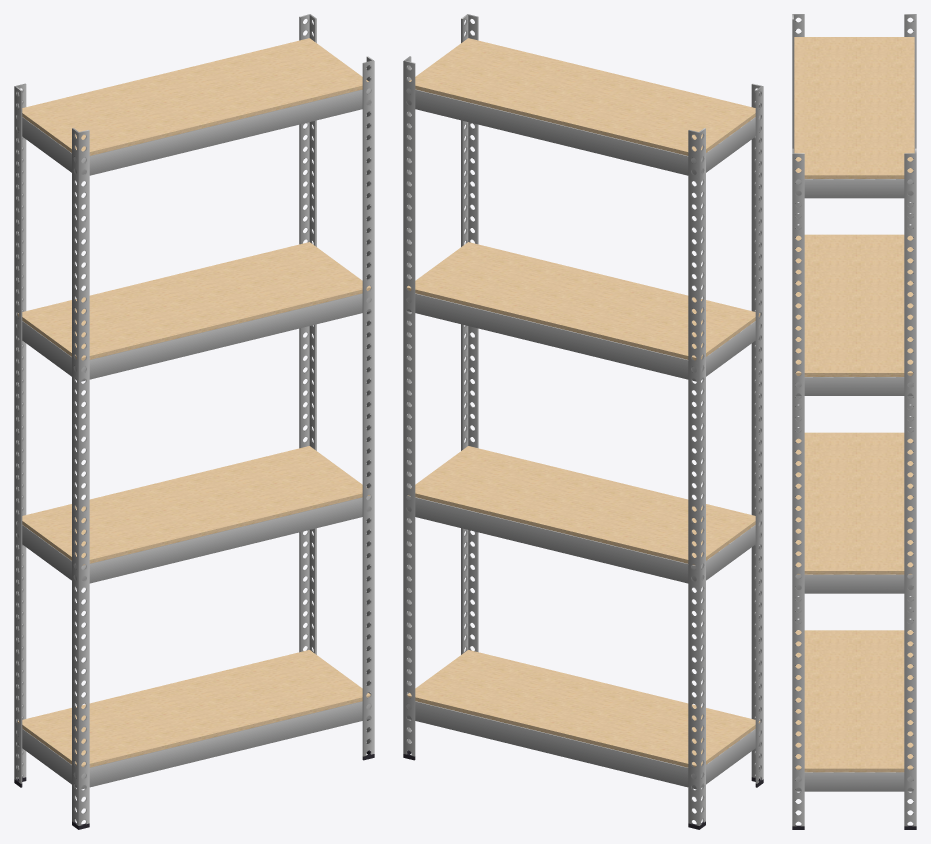
The model's file is shelves_storage_steel.obj.
3 renders of one model, left to right at view 1: azimuth 30°, elevation 25°; view 2: azimuth 150°, elevation 25°; view 3: azimuth 270°, elevation 25°, orthographic. The views are drawn at different scales.
Visible parts, largest first — view 1: 12_12, 9_9, 3_3, 6_6, 13_13, 17_17, 15_15, 10_10, 4_4, 1_1, 7_7, 19_19; view 2: 12_12, 9_9, 3_3, 6_6, 15_15, 19_19, 13_13, 10_10, 4_4, 1_1, 7_7, 17_17; view 3: 12_12, 9_9, 3_3, 6_6, 19_19, 17_17, 10_10, 4_4, 1_1, 7_7, 13_13, 15_15.
Part boxes in pixels (box(x1,y1,x2,y2)): 12_12: box(22, 38, 368, 155); 9_9: box(17, 242, 370, 360); 3_3: box(17, 650, 370, 767); 6_6: box(22, 446, 369, 565); 13_13: box(72, 128, 89, 825); 17_17: box(362, 56, 374, 756); 15_15: box(14, 83, 26, 783); 10_10: box(17, 88, 370, 175); 4_4: box(17, 495, 370, 583); 1_1: box(17, 701, 370, 789); 7_7: box(17, 293, 370, 381); 19_19: box(299, 14, 316, 654); 12_12: box(409, 38, 755, 155); 9_9: box(407, 242, 760, 360); 3_3: box(407, 650, 760, 767); 6_6: box(408, 446, 755, 565); 15_15: box(688, 128, 705, 825); 19_19: box(403, 56, 415, 756); 13_13: box(751, 83, 763, 783); 10_10: box(407, 88, 760, 175); 4_4: box(407, 495, 760, 583); 1_1: box(407, 701, 760, 789); 7_7: box(407, 293, 760, 381); 17_17: box(461, 14, 478, 654); 12_12: box(794, 37, 914, 178); 9_9: box(795, 234, 913, 376); 3_3: box(795, 630, 913, 772); 6_6: box(795, 432, 913, 574); 19_19: box(904, 148, 916, 826); 17_17: box(792, 148, 804, 826); 10_10: box(795, 179, 913, 198); 4_4: box(795, 574, 913, 593); 1_1: box(795, 772, 913, 791); 7_7: box(795, 377, 913, 395); 13_13: box(792, 14, 804, 623); 15_15: box(904, 14, 916, 623).
Bounding box in the file's own units: 80 × 180 × 30.
